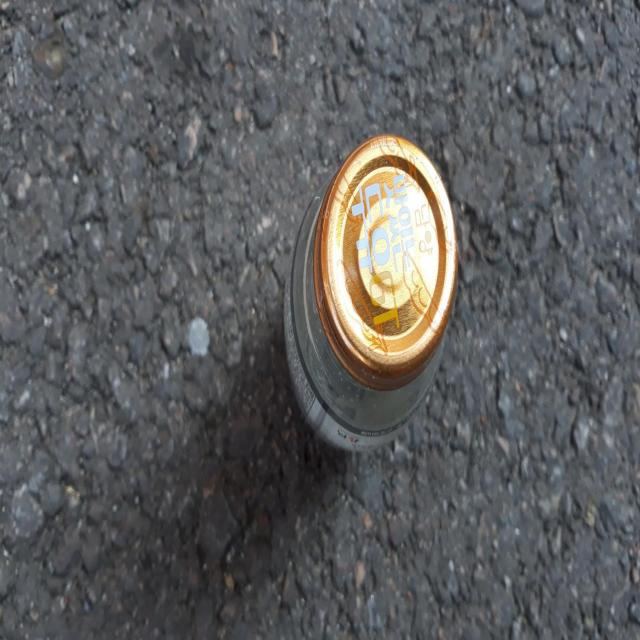glass: (284, 134, 458, 449)
